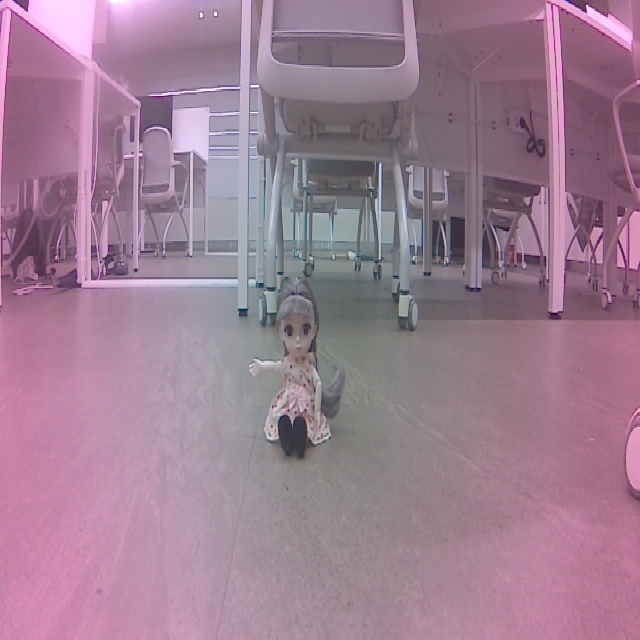장애물: (239, 274, 356, 479)
